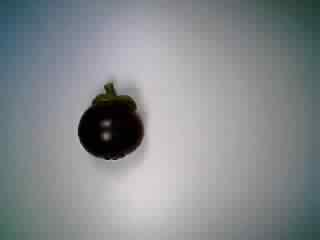mangosteen: (71, 79, 148, 165)
